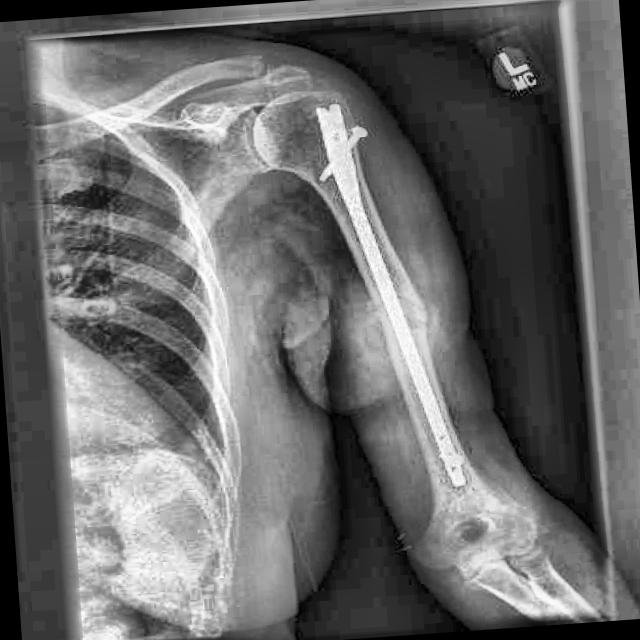humerus: (403, 298, 454, 369)
